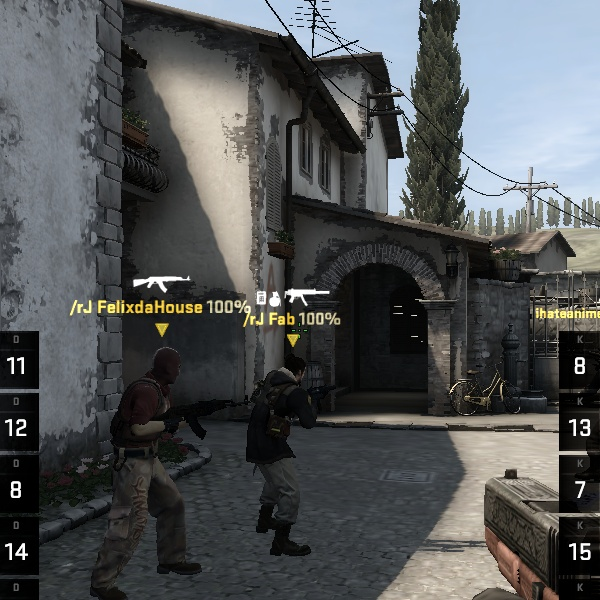t_body: (94, 337, 216, 579), (225, 352, 341, 558)
t_head: (140, 341, 194, 399)
